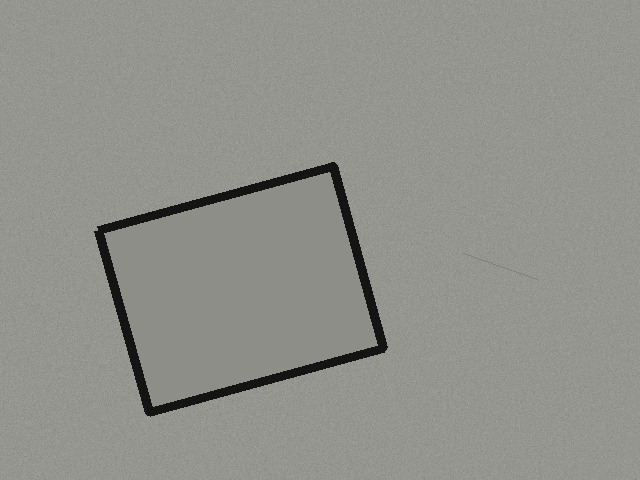parking_area: (98, 166, 383, 412)
